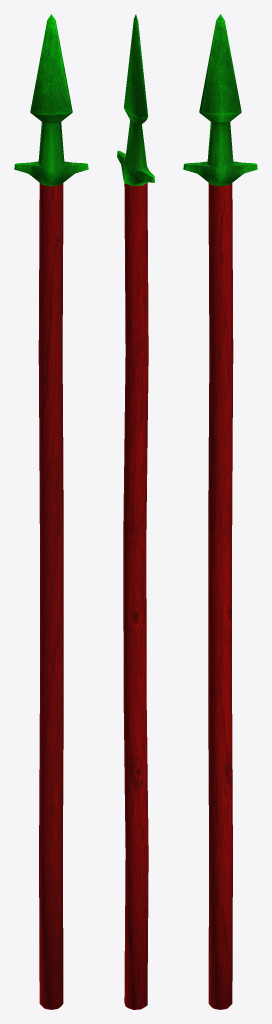
File: Spear01.fbx
3 renders of one model, left to right at view 1: azimuth 90°, elevation 25°; view 2: azimuth 210°, elevation 25°; view 3: azimuth 270°, elevation 25°, orthographic.
Visible parts, largest first — view 1: Spear01_LOD0; view 2: Spear01_LOD0; view 3: Spear01_LOD0.
Boxes of the visible parts, box(x1,y1,x2,y2) form: Spear01_LOD0: box(14, 14, 88, 1009); Spear01_LOD0: box(117, 14, 154, 1009); Spear01_LOD0: box(183, 14, 257, 1009).
Size of what is drawn, in the model's own units: 0.0371 by 1.55 by 0.1051.
